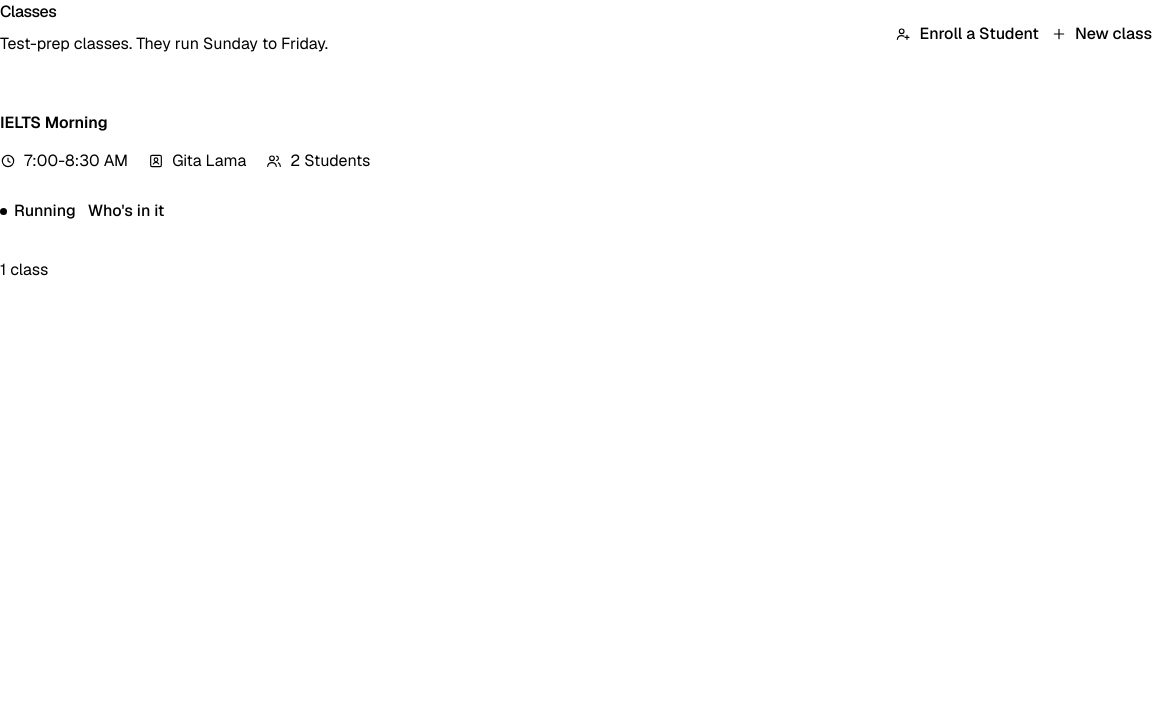
Test: Who's in a class › lists its Students with their attendance, linking each to their profile
Click the button named "Who's in it: IELTS Morning": (126, 211) [88,189,164,233]
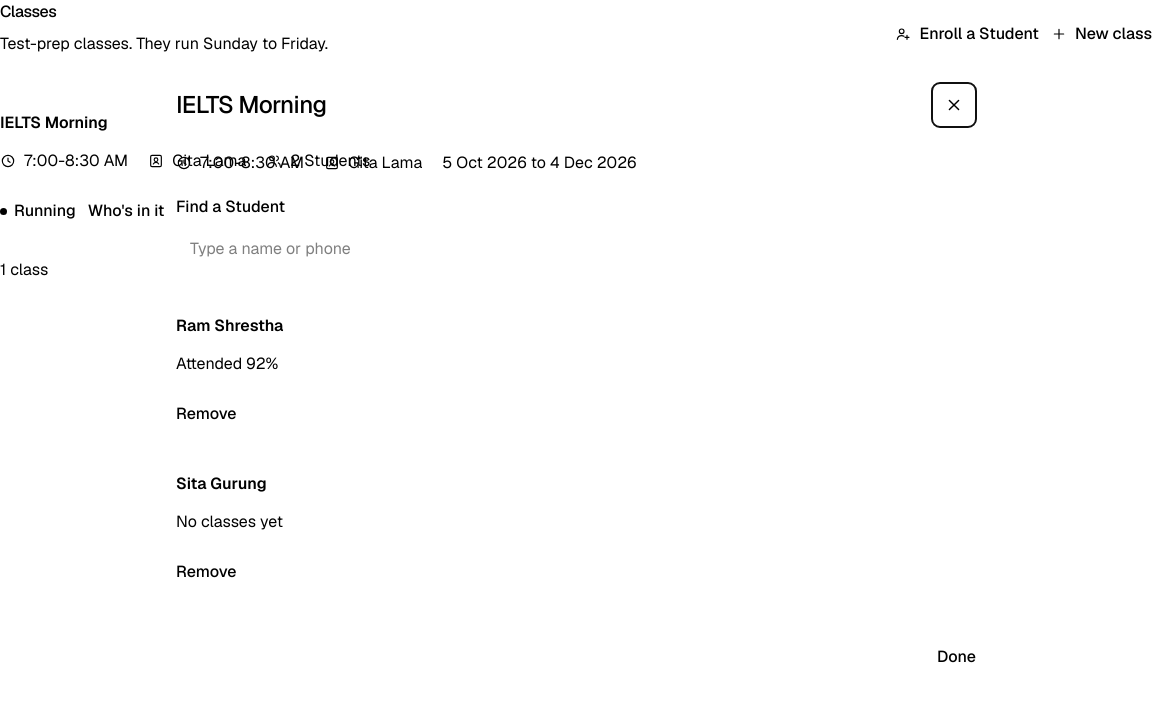
Result: the text "Attended 92%" is shown at [176,352,278,374]
Result: the text "No classes yet" is shown at [176,510,283,532]
Result: the text "5 Oct 2026 to 4 Dec 2026" is shown at [442,150,637,174]
